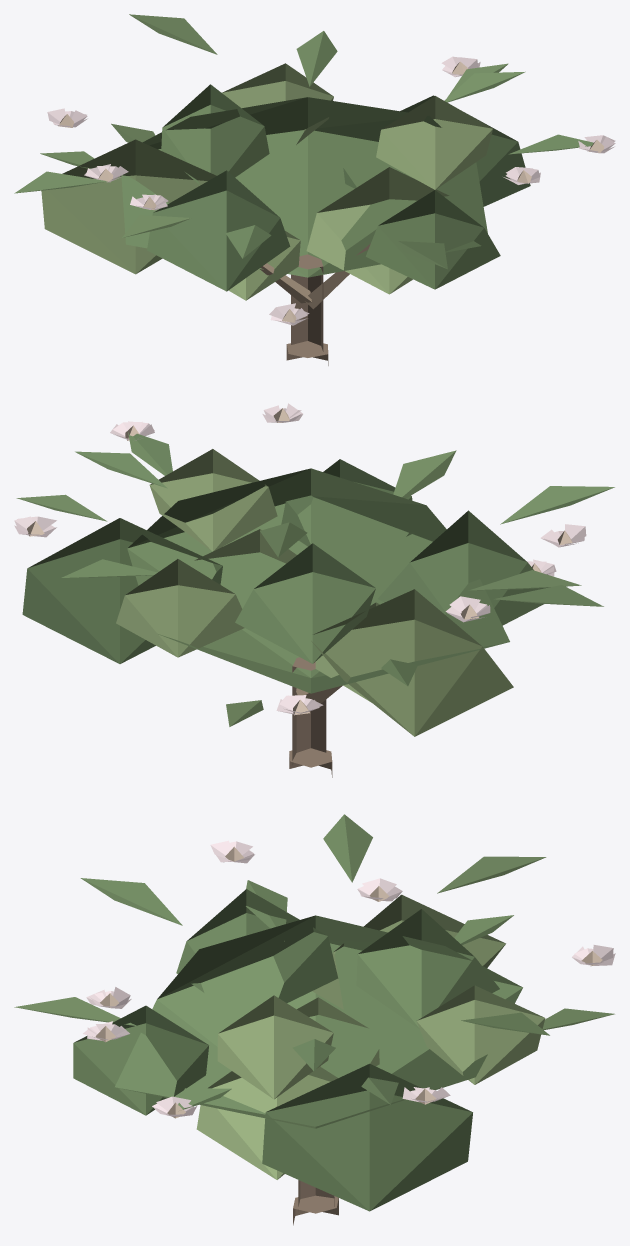
The model's file is shu.cha@flowering__summer.glb.
3 views of the same model, one above another, from view 1: azimuth 30°, elevation 25°; view 2: azimuth 150°, elevation 25°; view 3: azimuth 270°, elevation 25° (orthographic). The views are drawn at different scales.
Parts seen in each view (by area): view 1: shu.cha@flowering__summer; view 2: shu.cha@flowering__summer; view 3: shu.cha@flowering__summer.
Part boxes in pixels (<box>): shu.cha@flowering__summer: <box>14,14,615,365</box>; shu.cha@flowering__summer: <box>14,403,614,777</box>; shu.cha@flowering__summer: <box>14,814,615,1225</box>.
Bounding box in the file's own units: 4.79 × 2.57 × 4.31.
